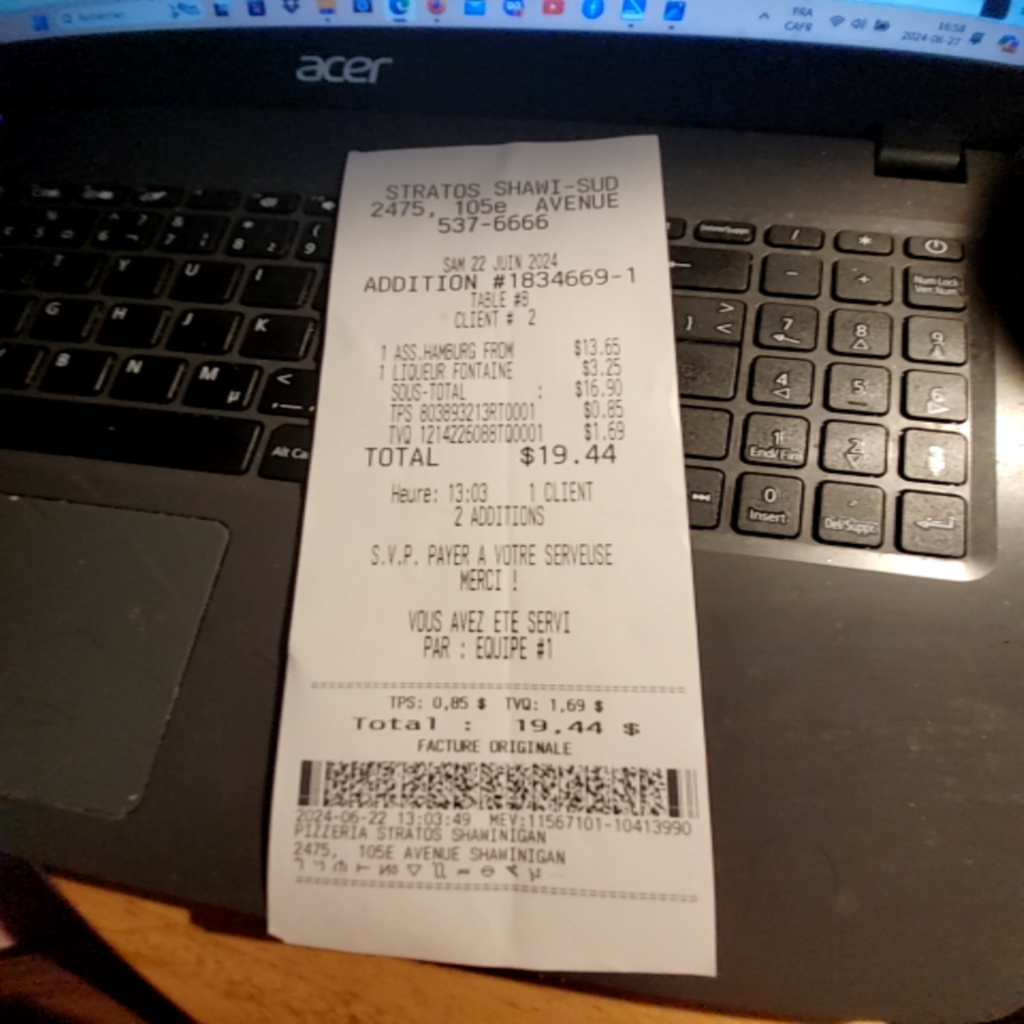recipt: (266, 134, 718, 974)
